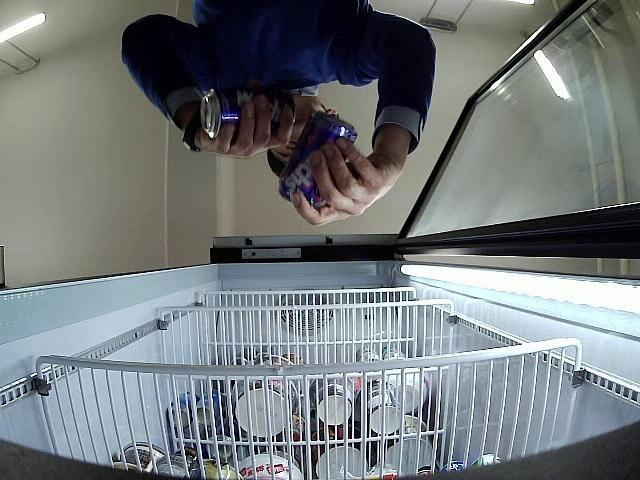14_welchsGrape: (278, 112, 358, 206), (201, 88, 296, 138)
